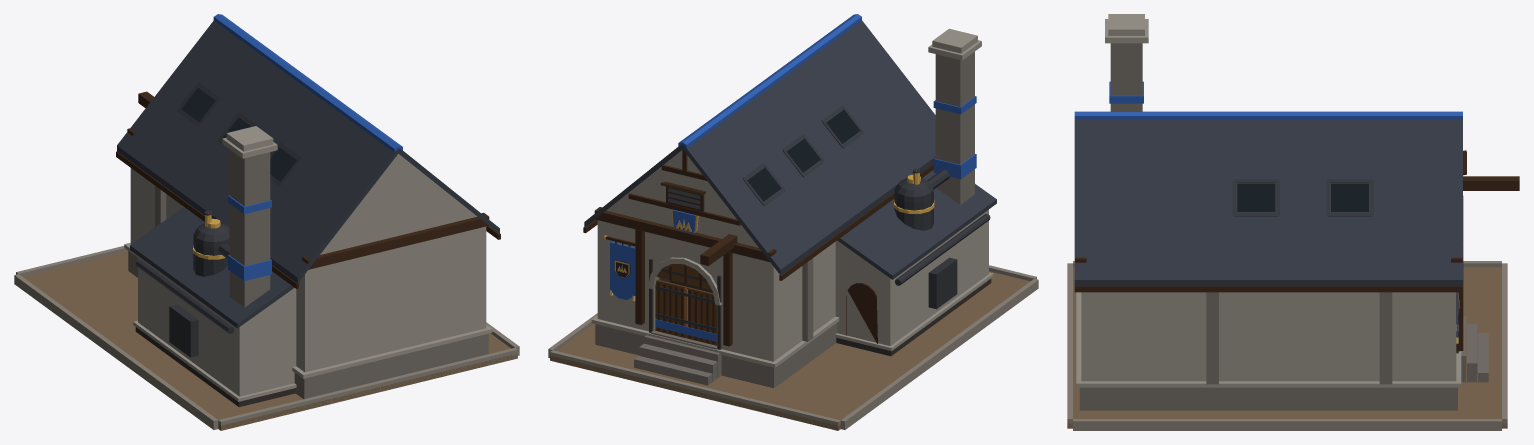
File: 蒸汽车坊_手游_远.glb
3 renders of one model, left to right at view 1: azimuth 30°, elevation 25°; view 2: azimuth 150°, elevation 25°; view 3: azimuth 270°, elevation 25°, orthographic. The views are drawn at different scales.
Visible parts, largest first — view 1: SW-主体, SW-team, SW-自发光; view 2: SW-主体, SW-team, SW-自发光; view 3: SW-主体, SW-team, SW-自发光.
Boxes of the visible parts, x1,y1,x2,y2 form: SW-主体: (14, 20, 519, 430); SW-team: (213, 14, 402, 280); SW-自发光: (181, 87, 296, 181); SW-主体: (548, 20, 1038, 430); SW-team: (610, 14, 976, 341); SW-自发光: (614, 110, 859, 278); SW-主体: (1067, 14, 1519, 430); SW-team: (1074, 81, 1462, 337); SW-自发光: (1237, 183, 1458, 314).
Bounding box in the file's own units: 12.16 × 9.92 × 14.48.
4 materials, 2 textured.
